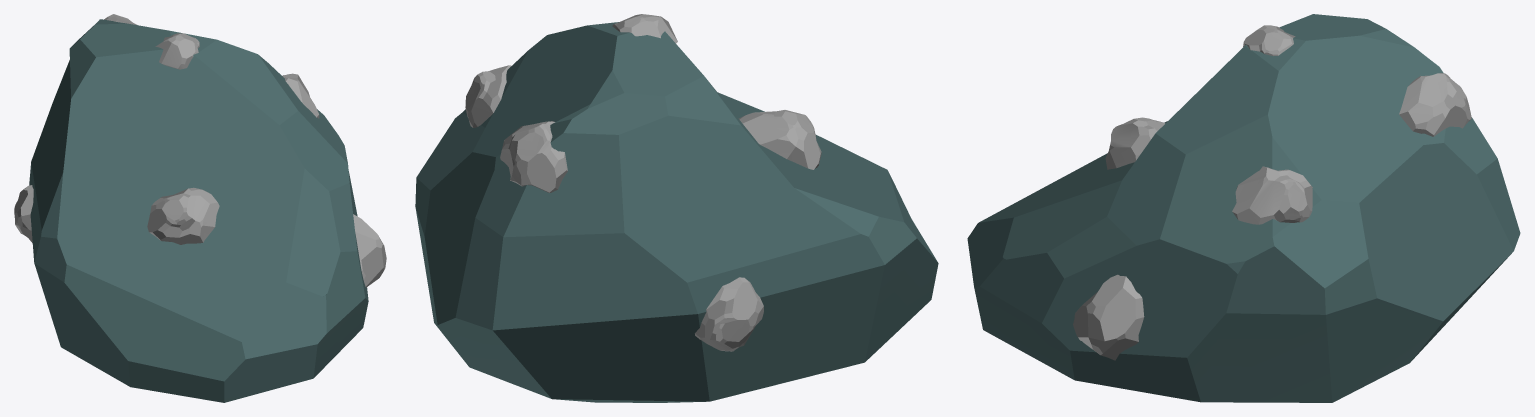
Rendered from Iron1.fbx.
3 views of the same model, side by side, from view 1: azimuth 30°, elevation 25°; view 2: azimuth 150°, elevation 25°; view 3: azimuth 270°, elevation 25° (orthographic). The views are drawn at different scales.
Parts seen in each view (by area): view 1: Rock, Nodes; view 2: Rock, Nodes; view 3: Rock, Nodes.
Boxes of the visible parts, <box> form: Rock: <box>29,19,368,402</box>; Nodes: <box>14,14,386,287</box>; Rock: <box>415,22,938,402</box>; Nodes: <box>465,14,821,351</box>; Rock: <box>967,14,1520,402</box>; Nodes: <box>1073,25,1471,360</box>.
Size of the model in its own units: 155 by 128 by 198.
